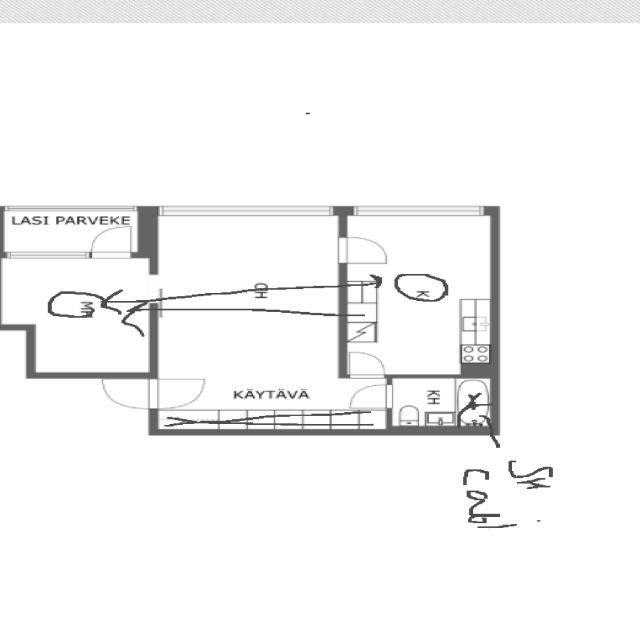door: (146, 374, 210, 412), (94, 376, 160, 410), (334, 234, 396, 266), (87, 224, 135, 260), (344, 380, 396, 411), (343, 348, 391, 380)
window: (156, 205, 333, 219), (347, 204, 485, 218), (2, 249, 94, 260)
zone: (154, 212, 342, 422), (344, 214, 496, 374), (0, 255, 154, 376), (389, 376, 495, 429)
